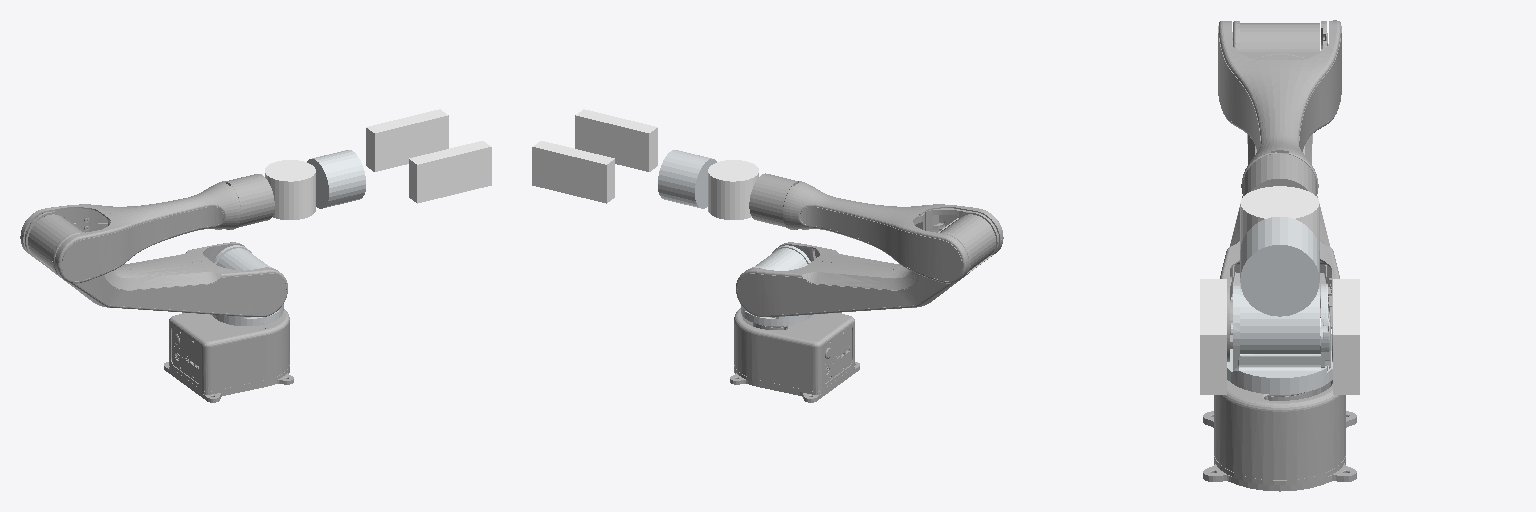
URDF robot description (airbot_play):
<?xml version="1.0" ?>
<!-- =================================================================================== -->
<!-- |    This document was autogenerated by xacro from src/robot_description/airbot/xacro/airbot.xacro | -->
<!-- |    EDITING THIS FILE BY HAND IS NOT RECOMMENDED                                 | -->
<!-- =================================================================================== -->
<robot name="airbot_play">
  <link name="world"/>
  <joint name="fixed_base_joint" type="fixed">
    <parent link="world"/>
    <child link="base_link"/>
  </joint>

  <link name="base_link">
    <visual>
      <origin rpy="0 0 0" xyz="0 0 0"/>
      <geometry>
        <mesh filename="package://robot_description/airbot/meshes/base_link.STL"/>
      </geometry>
      <material name="">
        <color rgba="0.75294 0.75294 0.75294 1"/>
      </material>
    </visual>
    <collision>
      <origin rpy="0 0 0" xyz="0 0 0"/>
      <geometry>
        <mesh filename="package://robot_description/airbot/meshes/base_link.STL"/>
      </geometry>
    </collision>
    <inertial>
      <mass value="0.1"/>
      <origin rpy="0 0 0" xyz="0 0 0"/>
      <inertia ixx="0.03" ixy="0.0" ixz="0.0" iyy="0.03" iyz="0.0" izz="0.03"/>
    </inertial>
  </link>
  <link name="link1">
    <inertial>
      <origin rpy="0 0 0" xyz="7.9126E-05 -0.002527 -0.0041359"/>
      <mass value="0.5571"/>
      <inertia ixx="0.0003462" ixy="0" ixz="-1.4E-06" iyy="0.0002863" iyz="-1.1E-06" izz="0.0003255"/>
    </inertial>
    <visual>
      <origin rpy="0 0 0" xyz="0 0 0"/>
      <geometry>
        <mesh filename="package://robot_description/airbot/meshes/link1.STL"/>
      </geometry>
      <material name="">
        <color rgba="0.89804 0.91765 0.92941 1"/>
      </material>
    </visual>
    <collision>
      <origin rpy="0 0 0" xyz="0 0 0"/>
      <geometry>
        <mesh filename="package://robot_description/airbot/meshes/link1.STL"/>
      </geometry>
    </collision>
  </link>
  <joint name="joint1" type="revolute">
    <origin rpy="0 0 0" xyz="0 0 0.1172"/>
    <parent link="base_link"/>
    <child link="link1"/>
    <axis xyz="0 0 1"/>
    <limit effort="18" lower="-3.14" upper="2.09" velocity="3.14"/>
  </joint>
  <link name="link2">
    <inertial>
      <origin rpy="0 0 0" xyz="0.22493 0.0047721 0.008023"/>
      <mass value="0.64621"/>
      <inertia ixx="0.0004901" ixy="0.0005229" ixz="-0.0002434" iyy="0.0050391" iyz="-2.95E-05" izz="0.00195052"/>
    </inertial>
    <visual>
      <origin rpy="0 0 0" xyz="0 0 0"/>
      <geometry>
        <mesh filename="package://robot_description/airbot/meshes/link2.STL"/>
      </geometry>
      <material name="">
        <color rgba="0.75294 0.75294 0.75294 1"/>
      </material>
    </visual>
    <collision>
      <origin rpy="0 0 0" xyz="0 0 0"/>
      <geometry>
        <mesh filename="package://robot_description/airbot/meshes/link2.STL"/>
      </geometry>
    </collision>
  </link>
  <joint name="joint2" type="revolute">
    <origin rpy="1.5708 -2.7549 0" xyz="0 0 0"/>
    <parent link="link1"/>
    <child link="link2"/>
    <axis xyz="0 0 1"/>
    <limit effort="18" lower="-2.96" upper="0.17" velocity="3.14"/>
  </joint>
  <link name="link3">
    <inertial>
      <origin rpy="0 0 0" xyz="0.20055 -5.5576E-05 0.0019184"/>
      <mass value="0.44556"/>
      <inertia ixx="0.000167" ixy="-4E-07" ixz="-0.0001263" iyy="0.0006727" iyz="-1E-07" izz="0.00060895"/>
    </inertial>
    <visual>
      <origin rpy="0 0 0" xyz="0 0 0"/>
      <geometry>
        <mesh filename="package://robot_description/airbot/meshes/link3.STL"/>
      </geometry>
      <material name="">
        <color rgba="0.75294 0.75294 0.75294 1"/>
      </material>
    </visual>
    <collision>
      <origin rpy="0 0 0" xyz="0 0 0"/>
      <geometry>
        <mesh filename="package://robot_description/airbot/meshes/link3.STL"/>
      </geometry>
    </collision>
  </link>
  <joint name="joint3" type="revolute">
    <origin rpy="0 0 -2.7548" xyz="0.27009 0 0"/>
    <parent link="link2"/>
    <child link="link3"/>
    <axis xyz="0 0 1"/>
    <limit effort="18" lower="-0.087" upper="3.14" velocity="3.14"/>
  </joint>
  <link name="link4">
    <inertial>
      <origin rpy="0 0 0" xyz="0.0015 0.00040412 -0.002328"/>
      <mass value="0.345876"/>
      <inertia ixx="0.0004235" ixy="0" ixz="4.7E-06" iyy="0.00012" iyz="-1E-07" izz="0.0001269"/>
    </inertial>
    <visual>
      <origin rpy="1.57 0 0" xyz="0 0 0"/>
      <geometry>
        <cylinder length="0.05" radius="0.03"/>
        <!-- <mesh filename="package://robot_description/airbot/meshes/link4.STL" /> -->
      </geometry>
      <material name="">
        <color rgba="1 1 1 1"/>
      </material>
    </visual>
    <collision>
      <origin rpy="1.57 0 0" xyz="0 0 0"/>
      <geometry>
        <cylinder length="0.05" radius="0.03"/>
        <!-- <mesh filename="package://robot_description/airbot/meshes/link4.STL" /> -->
      </geometry>
    </collision>
  </link>
  <joint name="joint4" type="revolute">
    <origin rpy="3.1416 -1.5708 0" xyz="0.30854 0 0"/>
    <parent link="link3"/>
    <child link="link4"/>
    <axis xyz="0 0 1"/>
    <limit effort="3" lower="-2.96" upper="2.96" velocity="6.28"/>
  </joint>
  <link name="link5">
    <inertial>
      <origin rpy="0 0 0" xyz="8.3328E-06 0.026148 0.002525"/>
      <mass value="0.186636"/>
      <inertia ixx="0.0001825" ixy="0" ixz="-3.29E-05" iyy="0.0004677" iyz="0" izz="0.0004286"/>
    </inertial>
    <visual>
      <origin rpy="1.57 0 0" xyz="0 0.06 0"/>
      <geometry>
        <!-- <mesh filename="package://robot_description/airbot/meshes/link5.STL" /> -->
        <cylinder length="0.05" radius="0.03"/>
      </geometry>
      <material name="">
        <color rgba="0.89804 0.91765 0.92941 1"/>
      </material>
    </visual>
    <collision>
      <origin rpy="1.57 0 0" xyz="0 0.06 0"/>
      <geometry>
        <cylinder length="0.05" radius="0.03"/>
        <!-- <mesh filename="package://robot_description/airbot/meshes/link5.STL" /> -->
      </geometry>
    </collision>
  </link>
  <joint name="joint5" type="revolute">
    <origin rpy="1.5708 0 0" xyz="0 0 0"/>
    <parent link="link4"/>
    <child link="link5"/>
    <axis xyz="0 0 1"/>
    <limit effort="3" lower="-1.74" upper="1.74" velocity="6.28"/>
  </joint>
  <link name="link6">
    <inertial>
      <origin rpy="0 0 0" xyz="0 0 0"/>
      <mass value="1E-15"/>
      <inertia ixx="1E-11" ixy="1E-15" ixz="1E-15" iyy="1E-11" iyz="1E-15" izz="1E-11"/>
    </inertial>
  </link>
  <joint name="joint6" type="revolute">
    <origin rpy="0 0 1.5708" xyz="0 0.085 0"/>
    <parent link="link5"/>
    <child link="link6"/>
    <axis xyz="1 0 0"/>
    <limit effort="3" lower="-1.74" upper="1.74" velocity="6.28"/>
  </joint>
  <link name="end_link">
    <inertial>
      <origin rpy="0 0 0" xyz="0 0 0"/>
      <mass value="1E-15"/>
      <inertia ixx="1E-11" ixy="1E-15" ixz="1E-15" iyy="1E-11" iyz="1E-15" izz="1E-11"/>
    </inertial>
  </link>
  <link name="gripper_base">
    <inertial>
      <origin rpy="0 0 0" xyz="0.020482 2.5483E-05 -0.079685"/>
      <mass value="0.40081"/>
      <inertia ixx="5E-05" ixy="0" ixz="0" iyy="0.00206" iyz="0" izz="0.0011889"/>
    </inertial>
  </link>
  <joint name="joint_parent" type="fixed">
    <origin rpy="-1.5708 1.5708 -1.5708" xyz="0.15145 0 0"/>
    <parent link="link6"/>
    <child link="gripper_base"/>
  </joint>
  <link name="finger_left">
    <inertial>
      <origin rpy="0 0 0" xyz="-0.049039 -0.0096764 0.00038868"/>
      <mass value="0.061803"/>
      <inertia ixx="1.8946E-05" ixy="-1.3168E-06" ixz="-6.5528E-07" iyy="2.7277E-05" iyz="-2.0801E-07" izz="1.1981E-05"/>
    </inertial>
    <visual>
      <origin rpy="0 0 0" xyz="-0.05 -0.01 0"/>
      <geometry>
        <!-- <mesh filename="package://airbot_models/meshes/airbot_gripper_2/finger_left.STL" /> -->
        <box size="0.1 0.02 0.05"/>
      </geometry>
      <material name="">
        <color rgba="1 1 1 1"/>
      </material>
    </visual>
    <collision>
      <origin rpy="0 0 0" xyz="-0.05 -0.01 0"/>
      <geometry>
        <!-- <mesh filename="package://airbot_models/meshes/airbot_gripper_2/finger_left.STL" /> -->
        <box size="0.1 0.02 0.05"/>
      </geometry>
    </collision>
  </link>
  <joint name="endleft" type="prismatic">
    <origin rpy="3.14159 -1.5708 0" xyz="0 0.04 0"/>
    <parent link="gripper_base"/>
    <child link="finger_left"/>
    <axis xyz="0 1 0"/>
    <limit effort="2" lower="0" upper="0.04" velocity="6.28"/>
  </joint>
  <link name="finger_right">
    <inertial>
      <origin rpy="0 0 0" xyz="-0.048742 0.0096369 0.00044322"/>
      <mass value="0.0626"/>
      <inertia ixx="1.915E-05" ixy="1.343E-06" ixz="-6.8259E-07" iyy="2.7722E-05" iyz="2.0748E-07" izz="1.2248E-05"/>
    </inertial>
    <visual>
      <origin rpy="0 0 0" xyz="-0.05 0.01 0"/>
      <geometry>
        <!-- <mesh filename="package://airbot_models/meshes/airbot_gripper_2/finger_right.STL" /> -->
        <box size="0.1 0.02 0.05"/>
      </geometry>
      <material name="">
        <color rgba="1 1 1 1"/>
      </material>
    </visual>
    <collision>
      <origin rpy="0 0 0" xyz="-0.05 0.01 0"/>
      <geometry>
        <!-- <mesh filename="package://airbot_models/meshes/airbot_gripper_2/finger_right.STL" /> -->
        <box size="0.1 0.02 0.05"/>
      </geometry>
    </collision>
  </link>
  <joint name="endright" type="prismatic">
    <origin rpy="3.14159 -1.5708 0" xyz="0 -0.04 0"/>
    <parent link="gripper_base"/>
    <child link="finger_right"/>
    <axis xyz="0 1 0"/>
    <limit effort="2" lower="-0.04" upper="0" velocity="6.28"/>
  </joint>
  <joint name="joint_gripper_end" type="fixed">
    <origin rpy="0 -1.5708 0" xyz="0 0 0.02"/>
    <parent link="gripper_base"/>
    <child link="end_link"/>
  </joint>
  <transmission name="trans_joint1">
    <type>transmission_interface/SimpleTransmission</type>
    <joint name="joint1">
      <hardwareInterface>hardware_interface/PositionJointInterface</hardwareInterface>
    </joint>
    <actuator name="joint1_motor">
      <hardwareInterface>hardware_interface/PositionJointInterface</hardwareInterface>
      <mechanicalReduction>1</mechanicalReduction>
    </actuator>
  </transmission>
  <transmission name="trans_joint2">
    <type>transmission_interface/SimpleTransmission</type>
    <joint name="joint2">
      <hardwareInterface>hardware_interface/PositionJointInterface</hardwareInterface>
    </joint>
    <actuator name="joint2_motor">
      <hardwareInterface>hardware_interface/PositionJointInterface</hardwareInterface>
      <mechanicalReduction>1</mechanicalReduction>
    </actuator>
  </transmission>
  <transmission name="trans_joint3">
    <type>transmission_interface/SimpleTransmission</type>
    <joint name="joint3">
      <hardwareInterface>hardware_interface/PositionJointInterface</hardwareInterface>
    </joint>
    <actuator name="joint3_motor">
      <hardwareInterface>hardware_interface/PositionJointInterface</hardwareInterface>
      <mechanicalReduction>1</mechanicalReduction>
    </actuator>
  </transmission>
  <transmission name="trans_joint4">
    <type>transmission_interface/SimpleTransmission</type>
    <joint name="joint4">
      <hardwareInterface>hardware_interface/PositionJointInterface</hardwareInterface>
    </joint>
    <actuator name="joint4_motor">
      <hardwareInterface>hardware_interface/PositionJointInterface</hardwareInterface>
      <mechanicalReduction>1</mechanicalReduction>
    </actuator>
  </transmission>
  <transmission name="trans_joint5">
    <type>transmission_interface/SimpleTransmission</type>
    <joint name="joint5">
      <hardwareInterface>hardware_interface/PositionJointInterface</hardwareInterface>
    </joint>
    <actuator name="joint5_motor">
      <hardwareInterface>hardware_interface/PositionJointInterface</hardwareInterface>
      <mechanicalReduction>1</mechanicalReduction>
    </actuator>
  </transmission>
  <transmission name="trans_joint_parent">
    <type>transmission_interface/SimpleTransmission</type>
    <joint name="joint_parent">
      <hardwareInterface>hardware_interface/PositionJointInterface</hardwareInterface>
    </joint>
    <actuator name="joint_parent_motor">
      <hardwareInterface>hardware_interface/PositionJointInterface</hardwareInterface>
      <mechanicalReduction>1</mechanicalReduction>
    </actuator>
  </transmission>
  <transmission name="trans_endleft">
    <type>transmission_interface/SimpleTransmission</type>
    <joint name="endleft">
      <hardwareInterface>hardware_interface/PositionJointInterface</hardwareInterface>
    </joint>
    <actuator name="endleft_motor">
      <hardwareInterface>hardware_interface/PositionJointInterface</hardwareInterface>
      <mechanicalReduction>1</mechanicalReduction>
    </actuator>
  </transmission>
  <transmission name="trans_endright">
    <type>transmission_interface/SimpleTransmission</type>
    <joint name="endright">
      <hardwareInterface>hardware_interface/PositionJointInterface</hardwareInterface>
    </joint>
    <actuator name="endright_motor">
      <hardwareInterface>hardware_interface/PositionJointInterface</hardwareInterface>
      <mechanicalReduction>1</mechanicalReduction>
    </actuator>
  </transmission>
  <gazebo>
    <plugin name="gazebo_ros_control" filename="libgazebo_ros_control.so">
      <robotNamespace>/</robotNamespace>
      <robotSimType>gazebo_ros_control/DefaultRobotHWSim</robotSimType>
    </plugin>
  </gazebo>
</robot>

--- Facts derived from the render (not from the file) ---
The picture shows the robot from 3 angles, left to right: view 1: azimuth 30°, elevation 25°; view 2: azimuth 150°, elevation 25°; view 3: azimuth 270°, elevation 25°; orthographic projection.
Robot: airbot_play — 12 links, 11 joints (6 revolute, 2 prismatic, 3 fixed); root link world; default pose: every joint at zero.
Visible links, largest first — view 1: link2, link3, base_link, finger_right, finger_left, link4, link5, link1; view 2: link2, link3, base_link, finger_left, finger_right, link4, link5, link1; view 3: link3, base_link, link1, link5, link2, finger_left, finger_right, link4.
Link boxes in pixels (x1,y1,x2,y2): link2: (25, 211, 287, 316); link3: (20, 174, 274, 283); base_link: (164, 309, 293, 402); finger_right: (409, 141, 491, 203); finger_left: (366, 109, 448, 171); link4: (265, 160, 315, 219); link5: (307, 150, 365, 208); link1: (212, 245, 283, 325); link2: (736, 212, 998, 316); link3: (749, 173, 1003, 283); base_link: (730, 308, 859, 402); finger_left: (532, 141, 614, 203); finger_right: (575, 109, 657, 171); link4: (708, 160, 758, 219); link5: (658, 150, 716, 208); link1: (741, 245, 811, 325); link3: (1218, 20, 1341, 195); base_link: (1203, 334, 1356, 491); link1: (1227, 284, 1332, 394); link5: (1240, 217, 1319, 316); link2: (1220, 21, 1339, 361); finger_left: (1333, 279, 1359, 394); finger_right: (1200, 279, 1226, 394); link4: (1240, 186, 1319, 249).
Bounding box of the posed robot: 0.575 × 0.12 × 0.2491 m (x, y, z).
4 mesh visuals loaded from 4 distinct referenced files (4 binary STL).